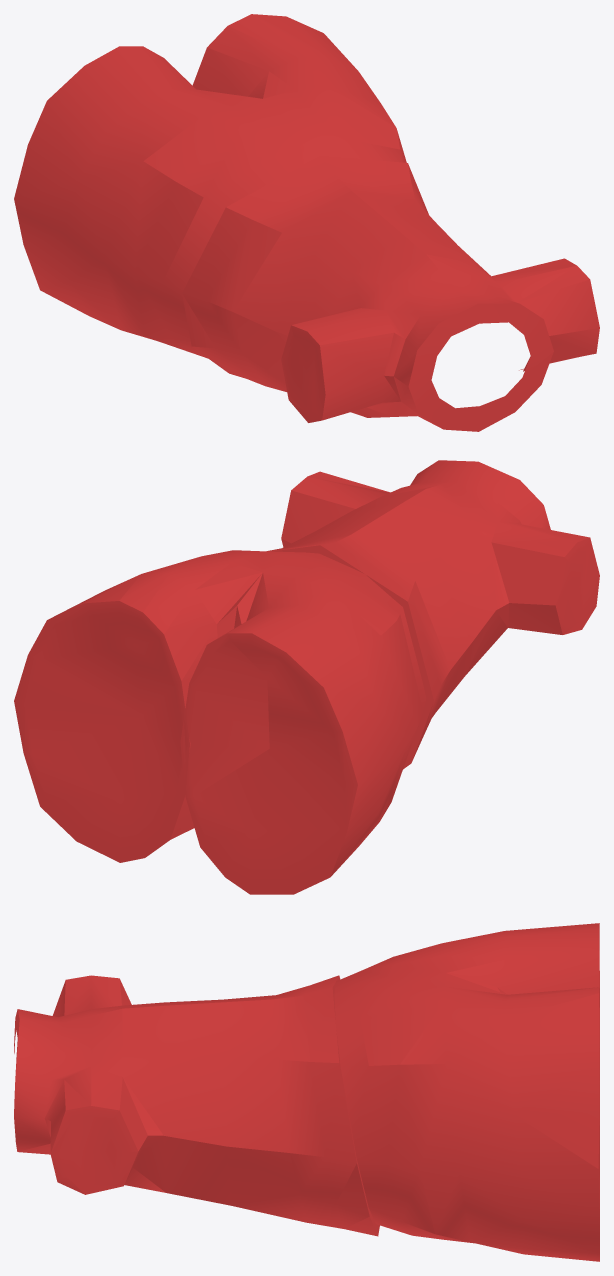
3 views of the same model, one above another, from view 1: azimuth 30°, elevation 25°; view 2: azimuth 150°, elevation 25°; view 3: azimuth 270°, elevation 25° (orthographic).
Visible parts, largest first — view 1: Object_9; view 2: Object_9; view 3: Object_9.
Boxes of the visible parts, box(x1,y1,x2,y2) form: Object_9: box(14, 14, 599, 431); Object_9: box(14, 460, 599, 894); Object_9: box(14, 923, 599, 1261).
Size of the model in its own units: 0.6525 by 0.4743 by 0.9725.
